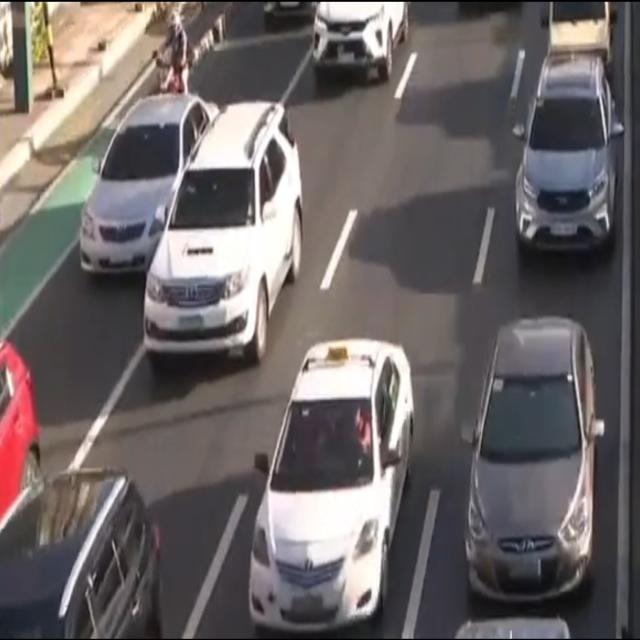Motorcycle: (152, 10, 194, 101)
SUV: (142, 98, 303, 366), (0, 474, 161, 640), (512, 62, 622, 254), (314, 0, 414, 83)
Sedan: (247, 339, 416, 628), (459, 317, 598, 597), (82, 93, 220, 270), (0, 332, 40, 538)
